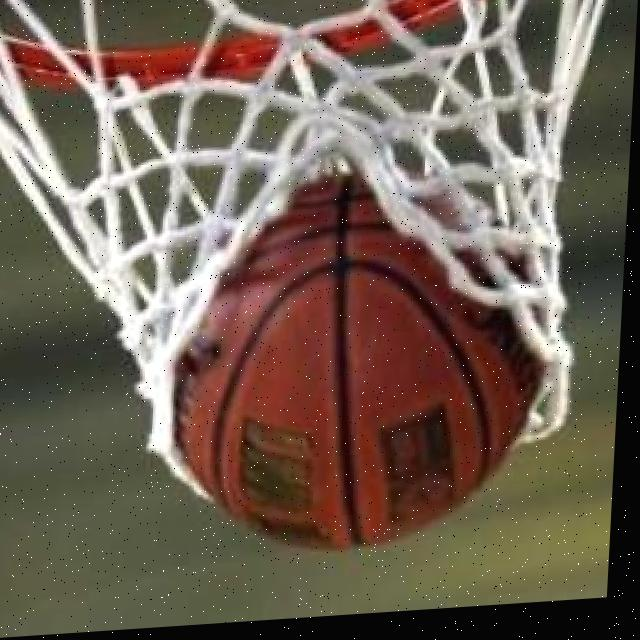basketball: (140, 149, 558, 563)
hoop: (0, 0, 625, 578), (0, 0, 625, 532)
